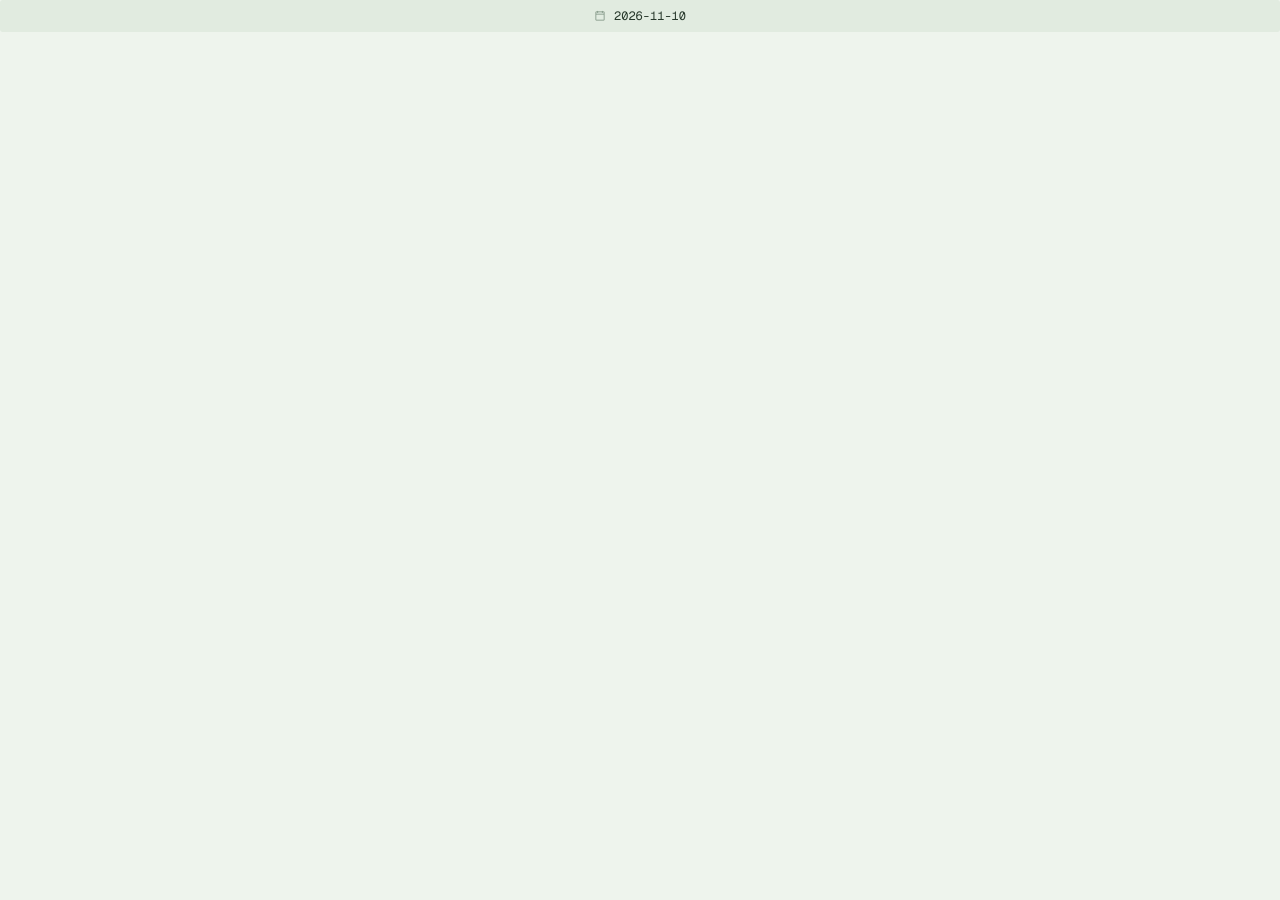
Test case: PaperDateField › renders value or placeholder and updates value on modal confirm
Later steps or results of the test are not shown.
Click the button "2026-11-10" at (640, 16), box [0,0,1279,32]
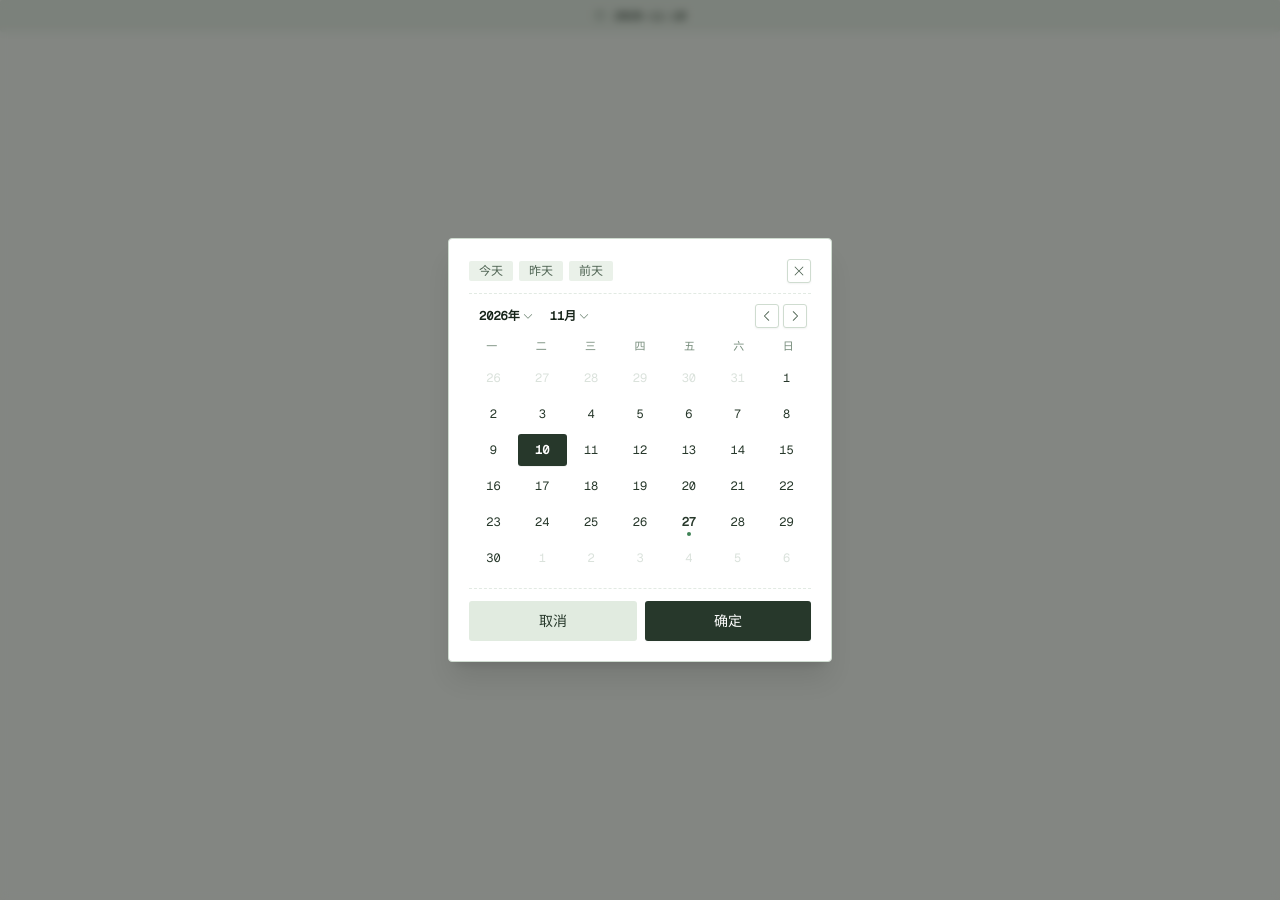
Expected: the text "2026年" is shown, [479,308,520,324]
Expected: the text "11月" is shown, [550,308,576,324]
